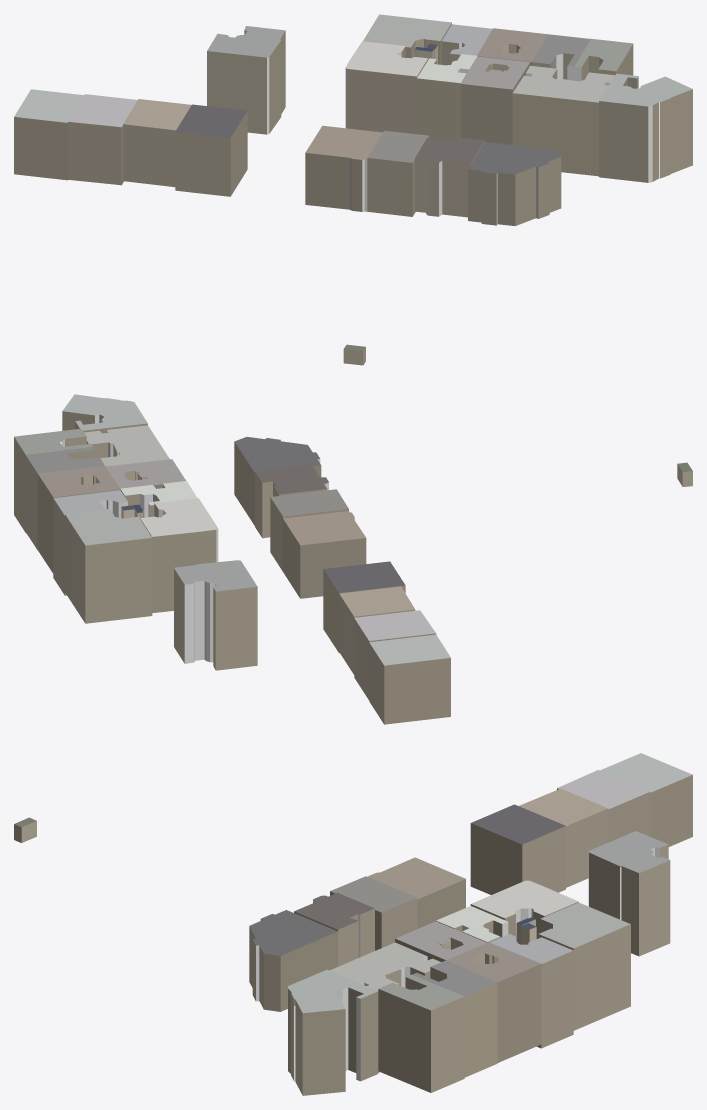
The picture shows the model from 3 angles, top to bottom: view 1: azimuth 30°, elevation 25°; view 2: azimuth 150°, elevation 25°; view 3: azimuth 270°, elevation 25°; orthographic projection. The views are drawn at different scales.
Parts seen in each view (by area): view 1: tuile; view 2: tuile; view 3: tuile.
Boxes of the visible parts, x1,y1,x2,y2 form: tuile: (14,14,692,365); tuile: (14,394,692,724); tuile: (14,753,692,1095).
Bounding box in the file's own units: 180 × 27.19 × 187.
